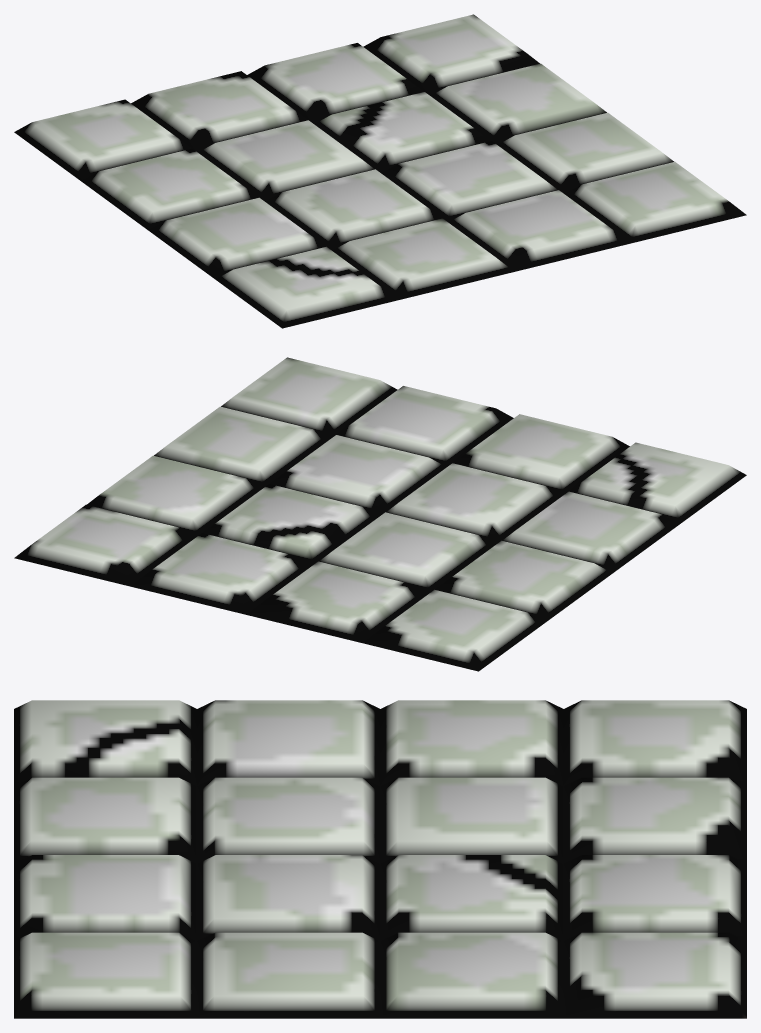
The model's file is deco_floorTilesSmall.FBX.
3 renders of one model, top to bottom at view 1: azimuth 30°, elevation 25°; view 2: azimuth 150°, elevation 25°; view 3: azimuth 270°, elevation 25°, orthographic. The views are drawn at different scales.
Parts seen in each view (by area): view 1: deco_floorTilesSmall; view 2: deco_floorTilesSmall; view 3: deco_floorTilesSmall.
Boxes of the visible parts, x1,y1,x2,y2 form: deco_floorTilesSmall: [14, 14, 746, 328]; deco_floorTilesSmall: [14, 357, 746, 671]; deco_floorTilesSmall: [14, 700, 746, 1018].
Size of the model in its own units: 2 by 0.05 by 2.
1 material, 1 textured.
